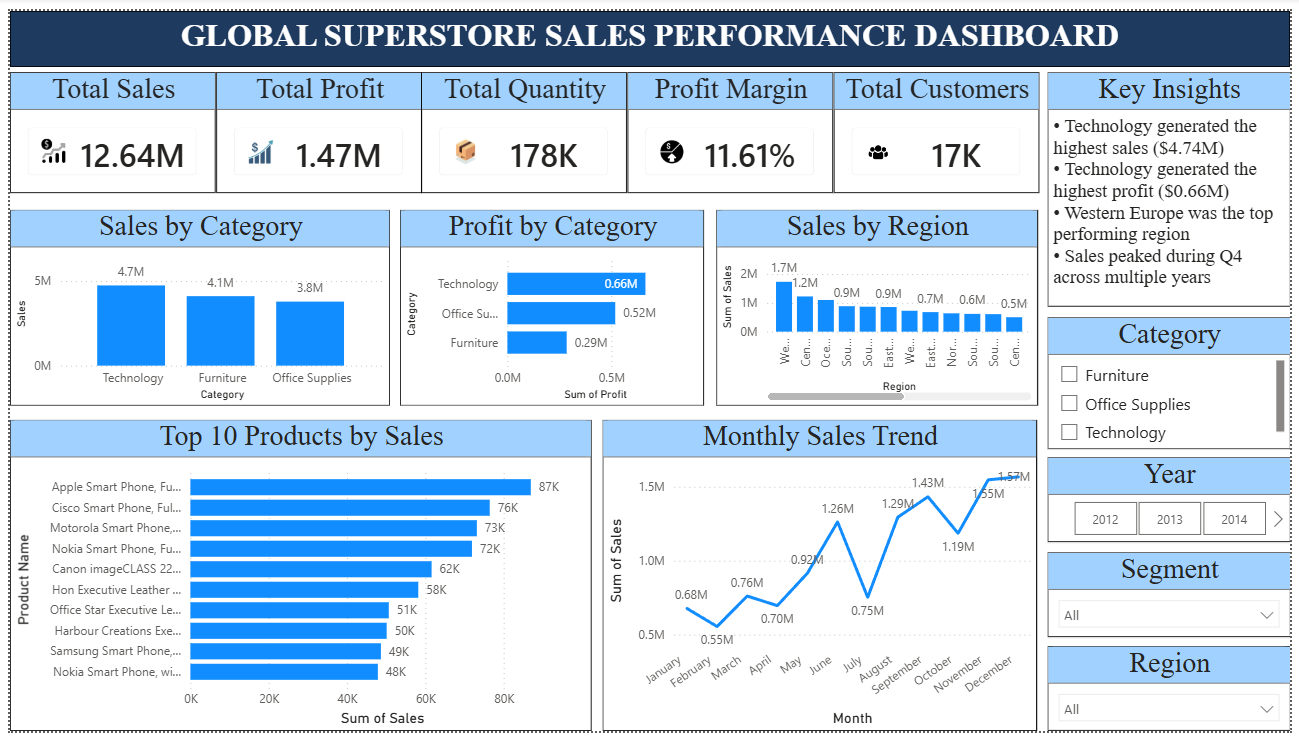

What the dashboard file says about the page in this screenshot:
{"tool":"powerbi","page":{"name":"Page 1","canvas":[1280,720],"ordinal":0},"visuals":[{"type":"cardVisual","title":"Total Sales","fields":{"Data":["Sum(Orders.Sales)"]},"box":[0,61.7,205.8,120.8],"z":0},{"type":"cardVisual","title":"Total Profit","fields":{"Data":["Sum(Orders.Profit)"]},"box":[205.8,61.7,205.8,120.8],"z":1000},{"type":"cardVisual","title":"Total Quantity","fields":{"Data":["Sum(Orders.Quantity)"]},"box":[411.7,61.7,205.8,120.8],"z":2000},{"type":"clusteredColumnChart","title":"Sales by Category","fields":{"Category":["Orders.Category"],"Y":["Sum(Orders.Sales)"]},"box":[0,198.8,380,195],"z":3000},{"type":"clusteredBarChart","title":"Profit by Category","fields":{"Category":["Orders.Category"],"Y":["Sum(Orders.Profit)"]},"box":[390,198.6,304.3,195.7],"z":4000},{"type":"clusteredBarChart","title":"Top 10 Products by Sales","fields":{"Category":["Orders.Product Name"],"Y":["Sum(Orders.Sales)"]},"box":[0,408.6,581.4,311.4],"z":5000},{"type":"clusteredColumnChart","title":"Sales by Region","fields":{"Category":["Orders.Region"],"Y":["Sum(Orders.Sales)"]},"box":[705.7,198.6,321.4,195.7],"z":6000},{"type":"lineChart","title":"Monthly Sales Trend","fields":{"Category":["Orders.Order Date.Variation.Date Hierarchy.Month"],"Y":["Sum(Orders.Sales)"]},"box":[592.9,408.6,434.3,311.4],"z":7000},{"type":"slicer","title":"Category","fields":{"Values":["Orders.Category"]},"box":[1037.4,306,242.9,131.7],"z":8000},{"type":"slicer","title":"Region","fields":{"Values":["Orders.Region"]},"box":[1037.4,635.3,242.9,85.1],"z":9000},{"type":"slicer","title":"Year","fields":{"Values":["Orders.Order Date.Variation.Date Hierarchy.Year"]},"box":[1037.4,446,242.9,85.1],"z":10000},{"type":"textbox","box":[0,0,1280,55.7],"z":11000},{"type":"cardVisual","title":"Profit Margin","fields":{"Data":["Orders.Profit Margin %"]},"box":[617.5,61.7,205.8,120.8],"z":12000},{"type":"cardVisual","title":"Total Customers","fields":{"Data":["Orders.Total Customers"]},"box":[823.3,61.7,205.8,120.8],"z":13000},{"type":"slicer","title":"Segment","fields":{"Values":["Orders.Segment"]},"box":[1037.4,540.7,242.9,85.1],"z":14000},{"type":"textbox","title":"Key Insights","box":[1037.4,61.7,242.9,234.6],"z":15000}]}

Visuals, with their boxes in screenshot pixels (x1, y1, x2, y2), scaled from the page's 1280x720 canvas onto the 1299x740 screenshot:
"Total Sales" cardVisual: 0:63:209:188
"Total Profit" cardVisual: 209:63:418:188
"Total Quantity" cardVisual: 418:63:627:188
"Sales by Category" clusteredColumnChart: 0:204:386:405
"Profit by Category" clusteredBarChart: 396:204:705:405
"Top 10 Products by Sales" clusteredBarChart: 0:420:590:739
"Sales by Region" clusteredColumnChart: 716:204:1042:405
"Monthly Sales Trend" lineChart: 602:420:1042:739
"Category" slicer: 1053:314:1298:450
"Region" slicer: 1053:653:1298:739
"Year" slicer: 1053:458:1298:546
textbox: 0:0:1298:57
"Profit Margin" cardVisual: 627:63:836:188
"Total Customers" cardVisual: 836:63:1044:188
"Segment" slicer: 1053:556:1298:643
"Key Insights" textbox: 1053:63:1298:305
